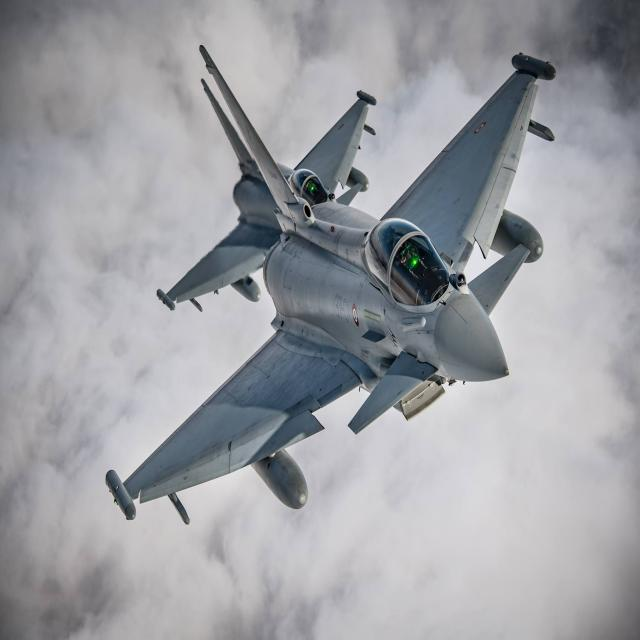MIL_Plane: (105, 45, 556, 525), (156, 78, 377, 312)
